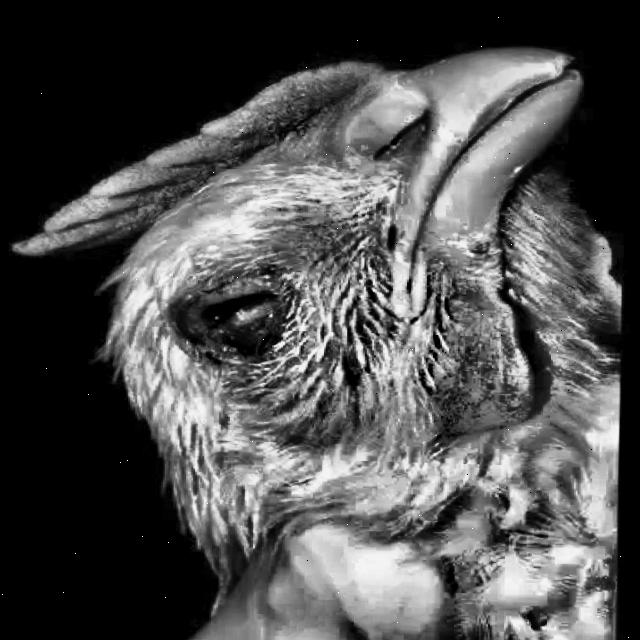Newcastle: (11, 31, 626, 640)
